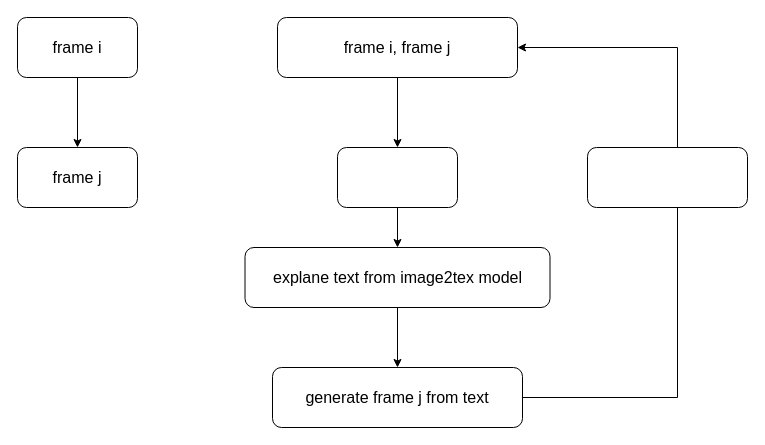
Some shapes in this 765 by 445 pixel diagram are drawn without their labels. Each missing label, with the centre of its shape:
image2text: the point at 397,177
loss(frame j , generate frame j): the point at 667,177
